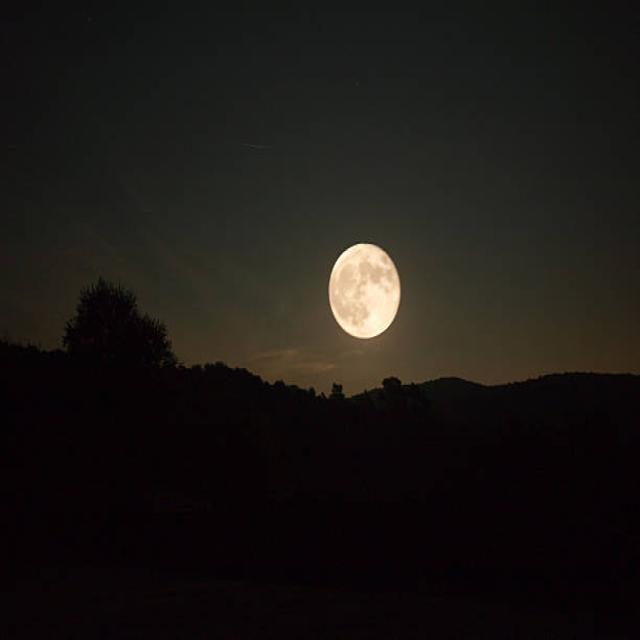moon: (328, 232, 401, 344)
